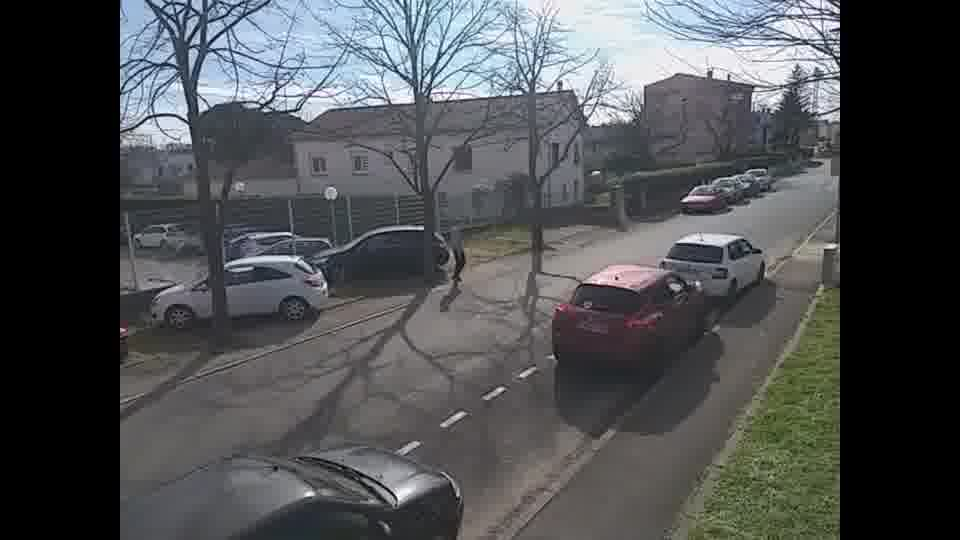jugador: (443, 211, 473, 288)
